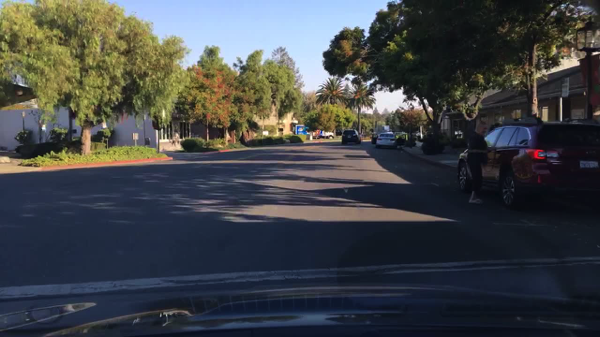car: (455, 114, 599, 212), (370, 129, 408, 148), (340, 129, 362, 145)
person: (464, 119, 495, 205)
traffic sign: (152, 110, 164, 130), (560, 78, 569, 99), (132, 132, 139, 141)
truck: (296, 124, 335, 141)
